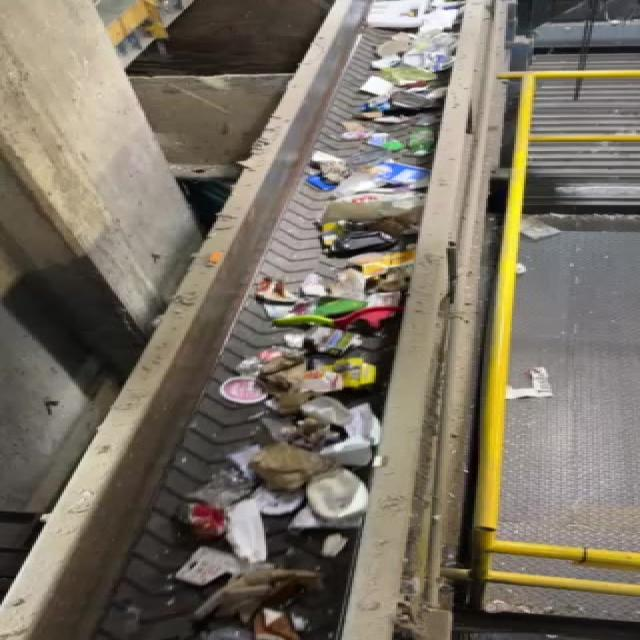metal: (170, 495, 250, 548)
pp: (304, 468, 372, 530)
